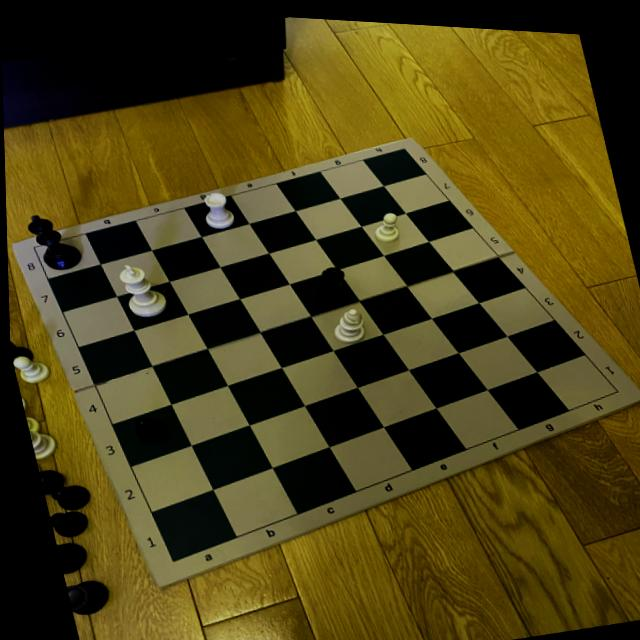Chessboard-Corners: (156, 549, 179, 568), (602, 378, 624, 392), (396, 135, 413, 151), (26, 241, 43, 255)
